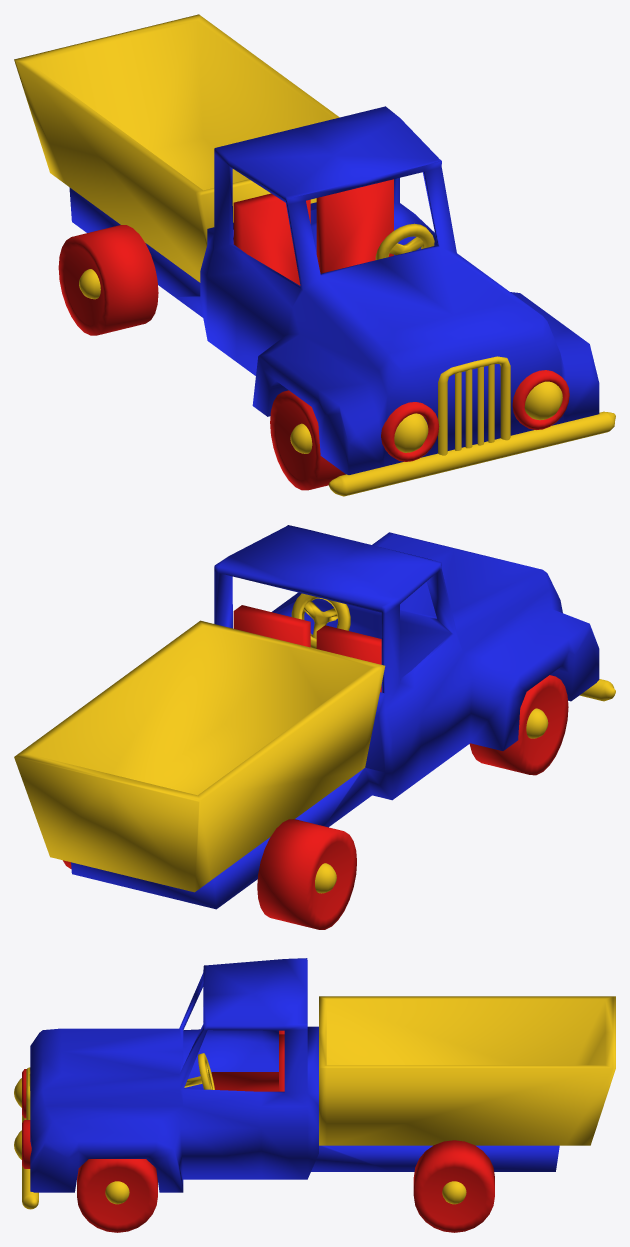
The model's file is toycar_separate.fbx.
3 renders of one model, top to bottom at view 1: azimuth 30°, elevation 25°; view 2: azimuth 150°, elevation 25°; view 3: azimuth 270°, elevation 25°, orthographic. The views are drawn at different scales.
Parts seen in each view (by area): view 1: Toy_Car, Toy_Car_Bed, Toy_Car_Wheel_B_R, Toy_Car_Wheel_F_R; view 2: Toy_Car_Bed, Toy_Car, Toy_Car_Wheel_B_R, Toy_Car_Wheel_F_R; view 3: Toy_Car, Toy_Car_Bed, Toy_Car_Wheel_B_L, Toy_Car_Wheel_F_L.
Part boxes in pixels (<box>): Toy_Car: <box>69,106,615,496</box>; Toy_Car_Bed: <box>14,14,339,282</box>; Toy_Car_Wheel_B_R: <box>58,225,158,335</box>; Toy_Car_Wheel_F_R: <box>270,390,345,490</box>; Toy_Car_Bed: <box>14,620,385,892</box>; Toy_Car: <box>71,525,615,909</box>; Toy_Car_Wheel_B_R: <box>257,819,356,929</box>; Toy_Car_Wheel_F_R: <box>469,675,568,775</box>; Toy_Car: <box>14,958,559,1209</box>; Toy_Car_Bed: <box>319,996,615,1145</box>; Toy_Car_Wheel_B_L: <box>413,1140,494,1232</box>; Toy_Car_Wheel_F_L: <box>77,1159,157,1232</box>.
Size of the model in its own units: 0.1346 by 0.1091 by 0.3078.
